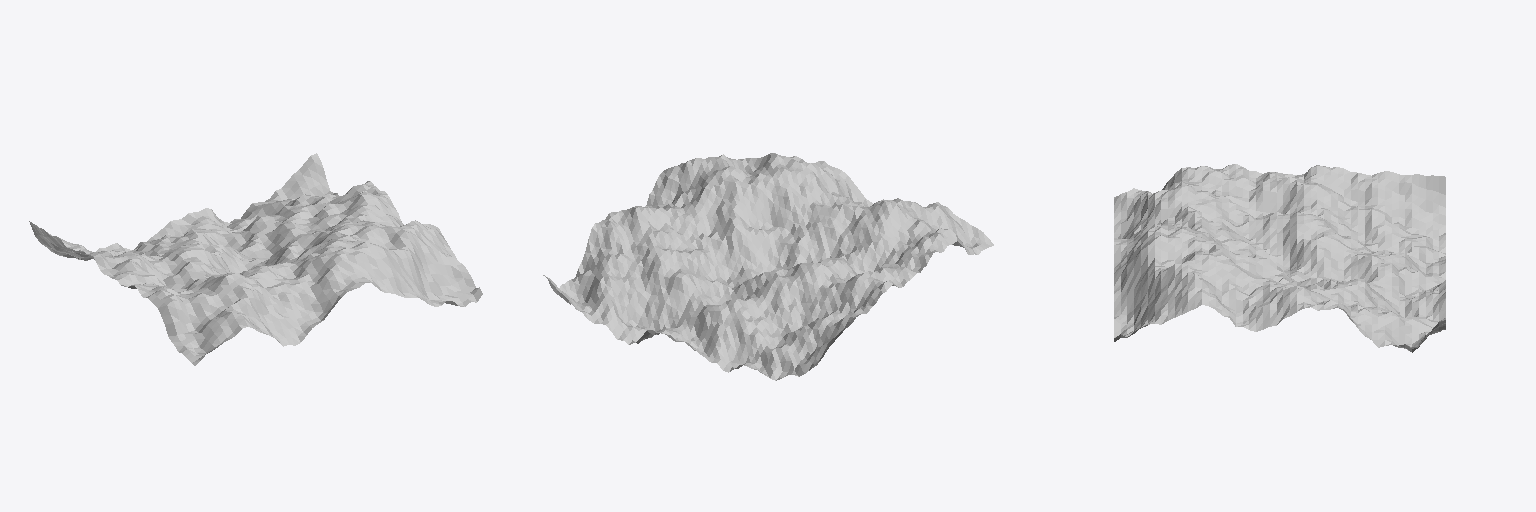
The model's file is terrain.obj.
The picture shows the model from 3 angles: view 1: azimuth 30°, elevation 25°; view 2: azimuth 150°, elevation 25°; view 3: azimuth 270°, elevation 25°; orthographic projection.
Visible parts, largest first — view 1: mountains.030; view 2: mountains.030; view 3: mountains.030.
Boxes of the visible parts, x1=… form: mountains.030: x1=29, y1=153, x2=482, y2=365; mountains.030: x1=543, y1=153, x2=993, y2=380; mountains.030: x1=1114, y1=164, x2=1445, y2=352.
Bounding box in the file's own units: 2 × 0.6 × 2.